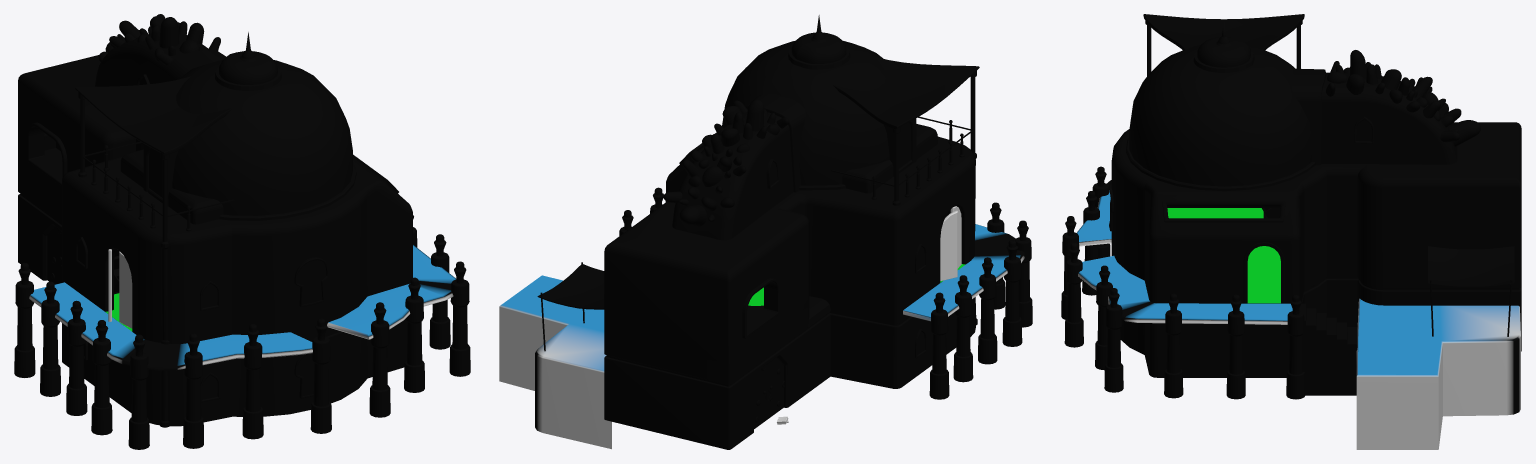
Rendered from SM_ArchitectHouse.fbx.
3 renders of one model, left to right at view 1: azimuth 30°, elevation 25°; view 2: azimuth 150°, elevation 25°; view 3: azimuth 270°, elevation 25°, orthographic. The views are drawn at different scales.
Parts seen in each view (by area): view 1: maison_architecte, porte_gauche; view 2: maison_architecte, porte_droite; view 3: maison_architecte.
Part boxes in pixels (box(x1,y1,x2,y2)): maison_architecte: box(14, 14, 470, 449); porte_gauche: box(119, 251, 132, 328); maison_architecte: box(499, 15, 1032, 449); porte_droite: box(940, 210, 957, 281); maison_architecte: box(1061, 14, 1521, 449).
Size of the model in its own units: 2107 by 1777 by 2241.
